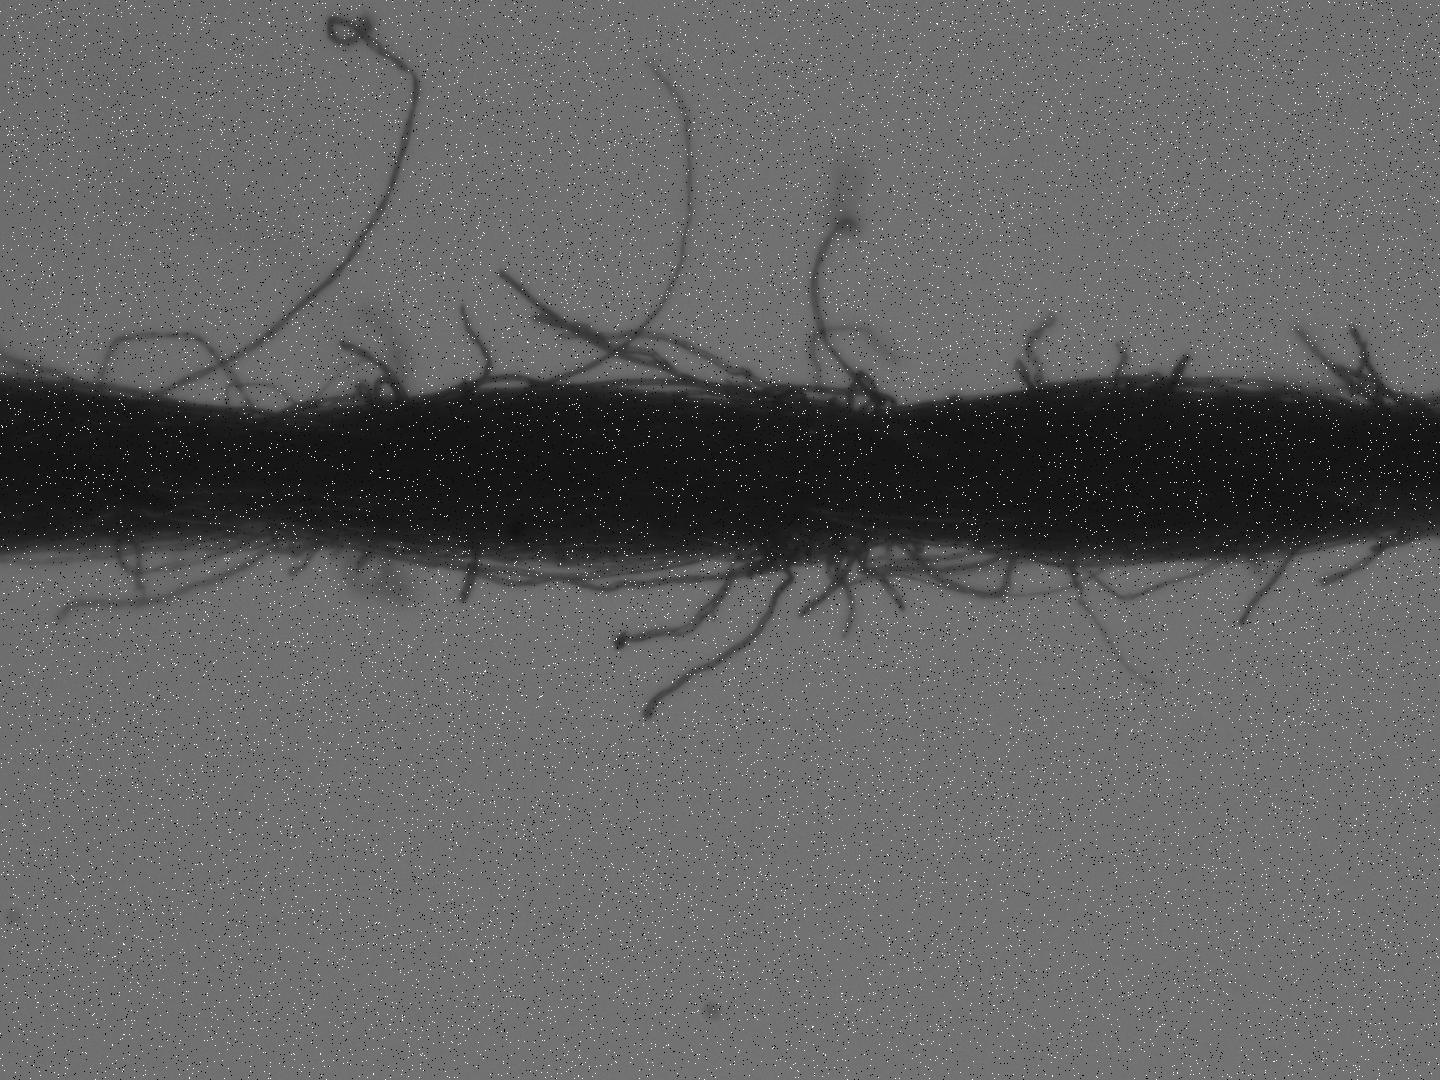loop_fiber: (279, 531, 712, 591), (93, 323, 261, 423), (884, 509, 1039, 604), (855, 518, 1011, 580), (1084, 559, 1233, 609), (722, 531, 816, 574), (439, 369, 558, 394), (687, 382, 811, 404), (822, 538, 854, 591), (848, 369, 886, 411), (362, 371, 404, 405)
protruding_fiber: (637, 555, 798, 722), (1237, 545, 1301, 635), (1162, 349, 1192, 395)
